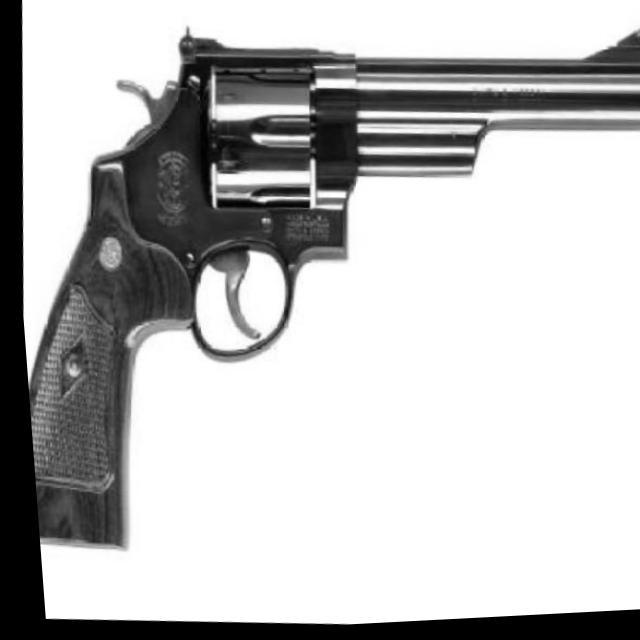weapon: (1, 0, 640, 591)
